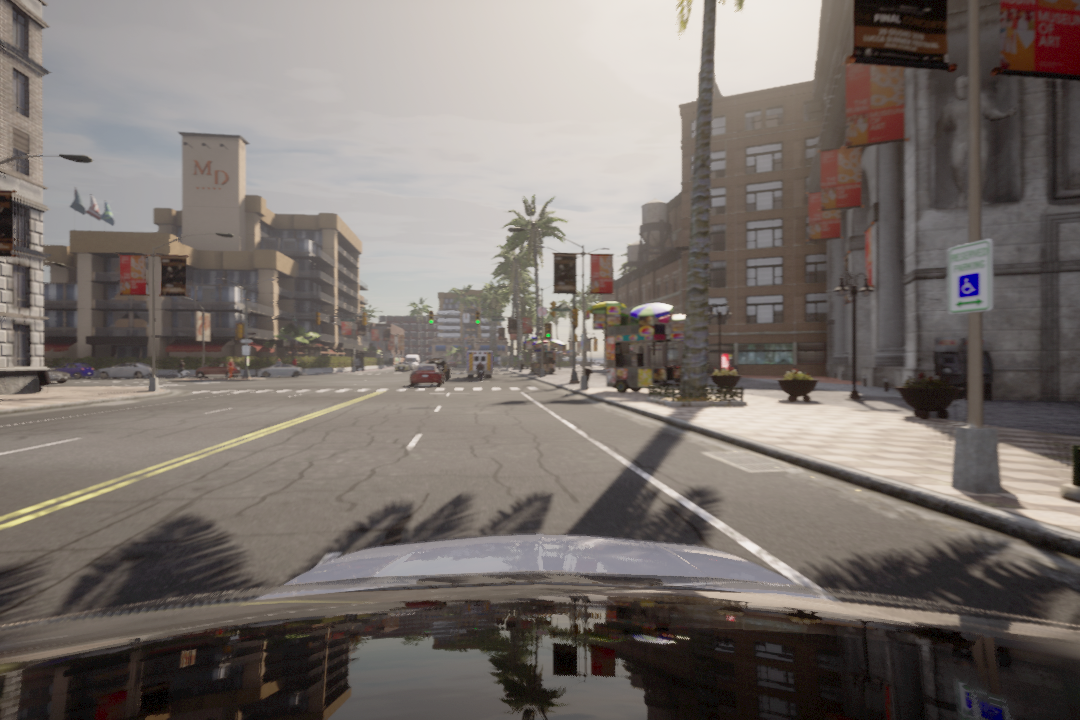TrafficLight: (543, 321, 554, 341), (473, 307, 481, 327), (427, 310, 435, 325)
walkside: (177, 383, 551, 392)
